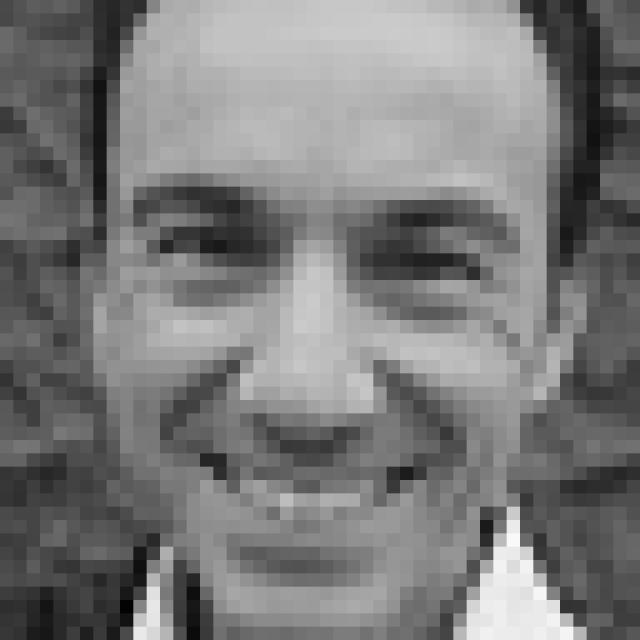happy: (125, 171, 532, 583)
